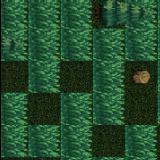Obstacle: (124, 61, 156, 92), (92, 0, 125, 28)
Slow: (92, 29, 124, 125), (27, 0, 59, 93), (60, 93, 92, 160), (124, 0, 156, 60), (0, 126, 59, 158), (61, 0, 91, 60), (0, 0, 27, 60), (125, 125, 156, 160), (0, 92, 26, 126)
